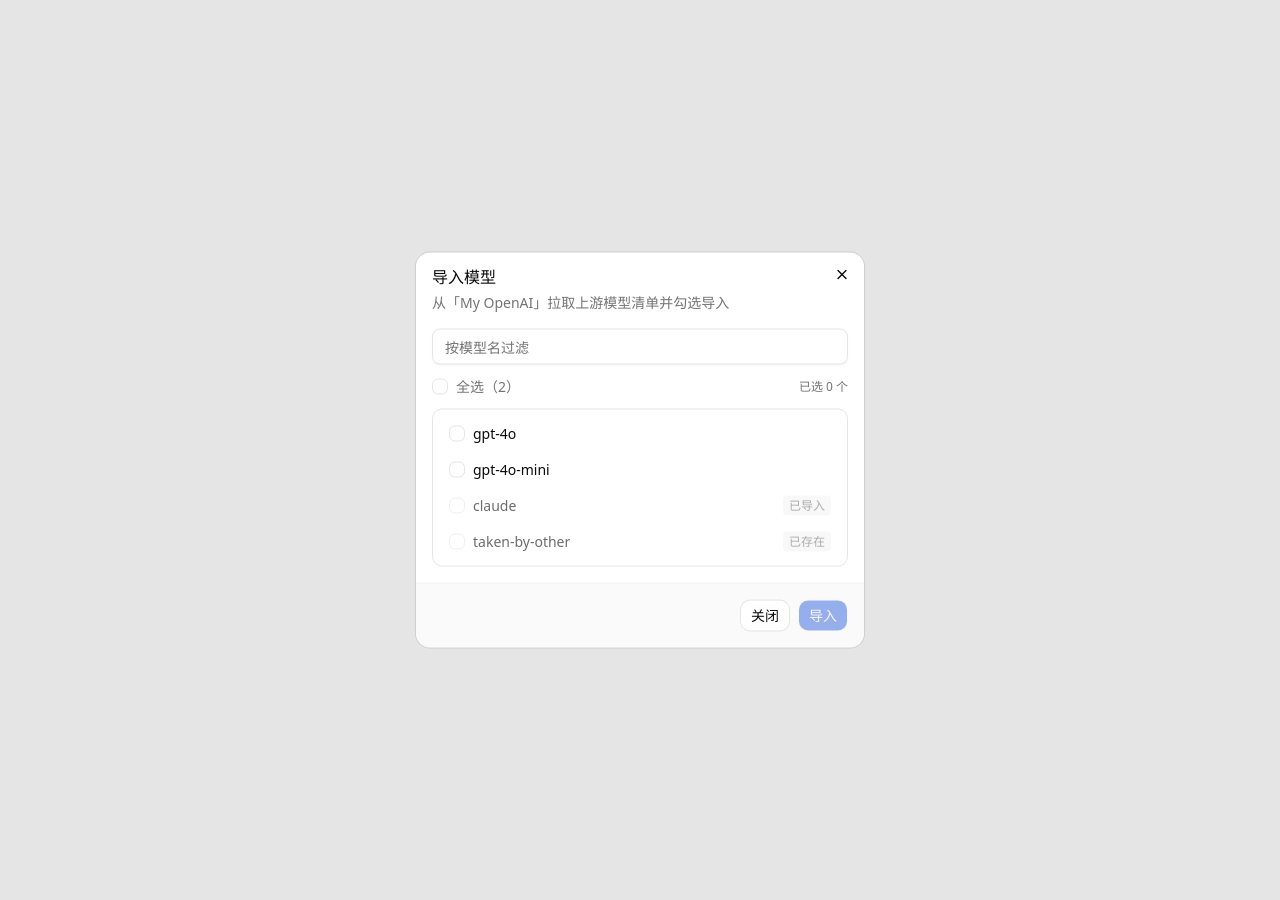
Test: ImportModelsDialog › T-W21: keeps the import button usable when a background refetch fails after data has loaded (C-2)
What coordinates should you click on to do the following:
click the checkbox named "选择 gpt-4o"
I would click on:
 (457, 434)
Its box is [449,426,465,442].
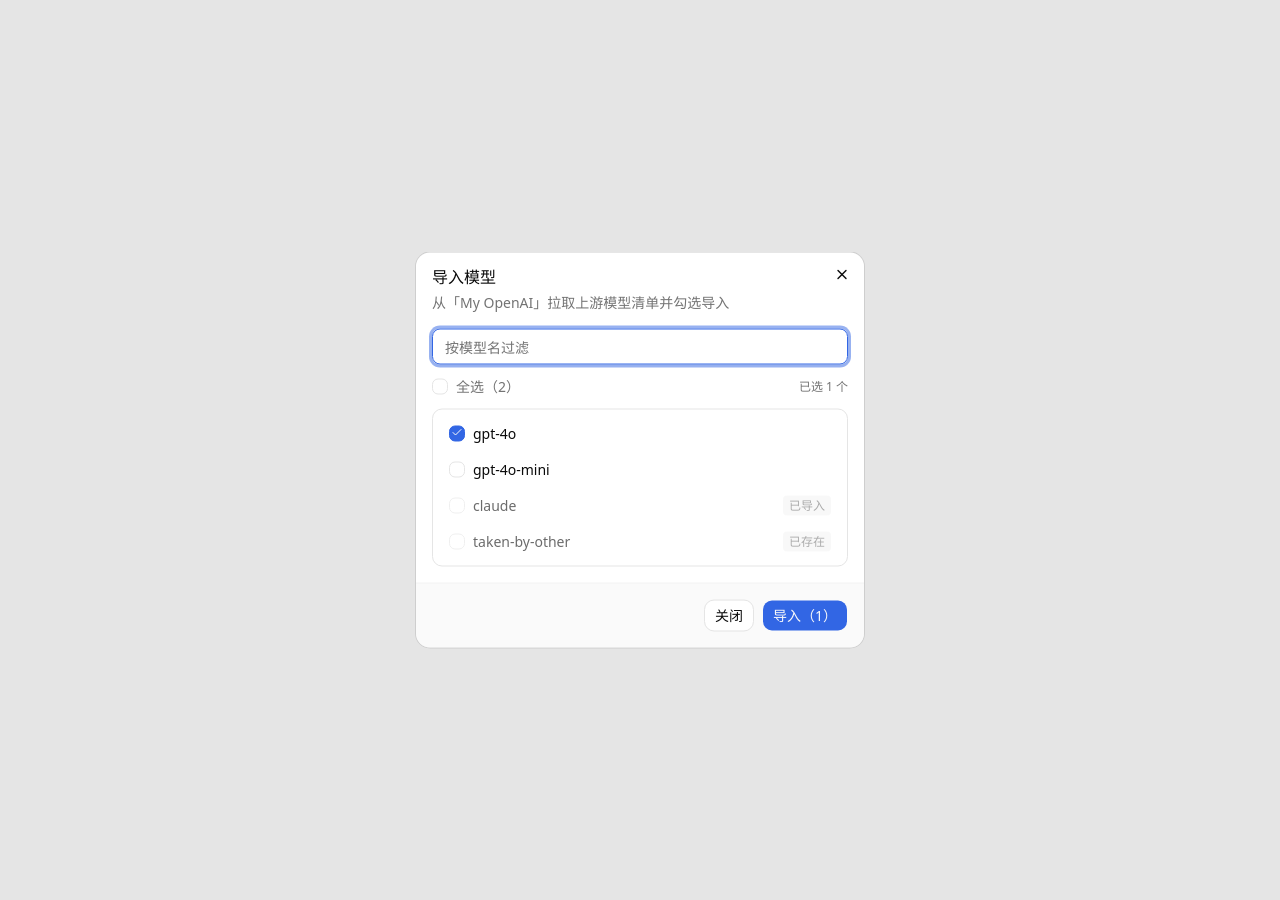
Expected: the button "导入（1）" is enabled, [762,600,848,632]
